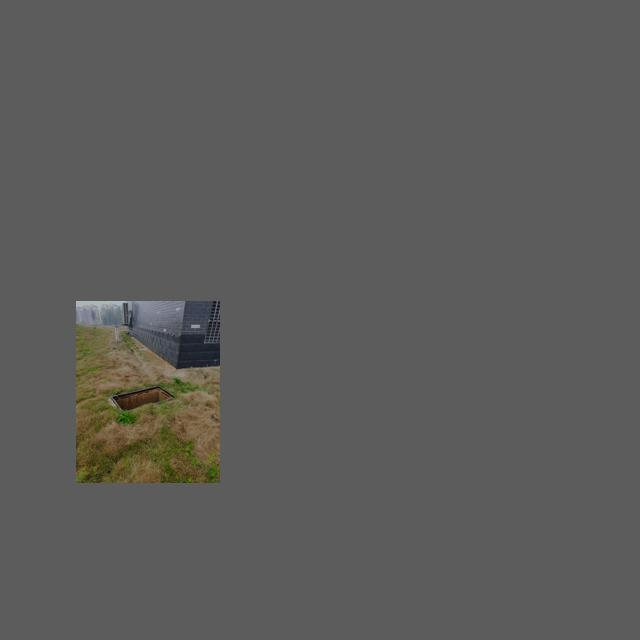lose: (112, 385, 178, 412)
